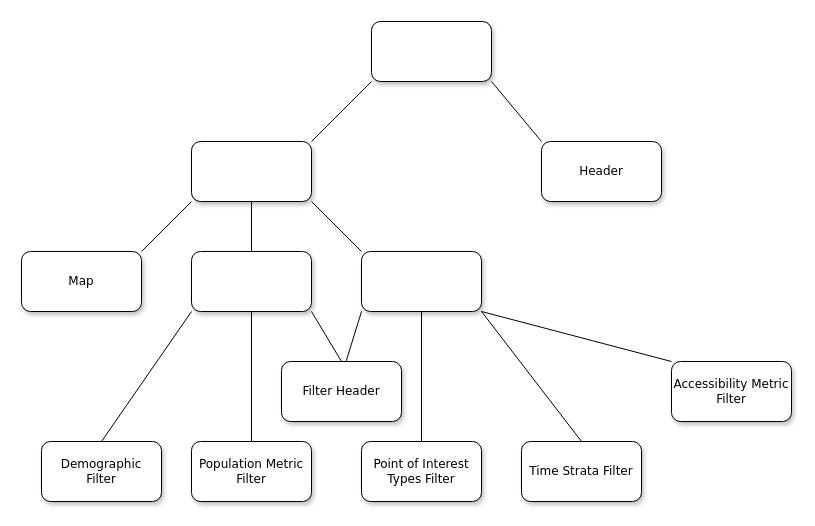
Image size: 815x526. Some labels were removed from this diagram. The shapes that lost their labels are listed below. From the top down, each one's centre as x and y in pixels, then its label:
[432,52]: Root Component
[252,172]: Page Content
[252,282]: Left Sidebar
[422,282]: Right Sidebar
